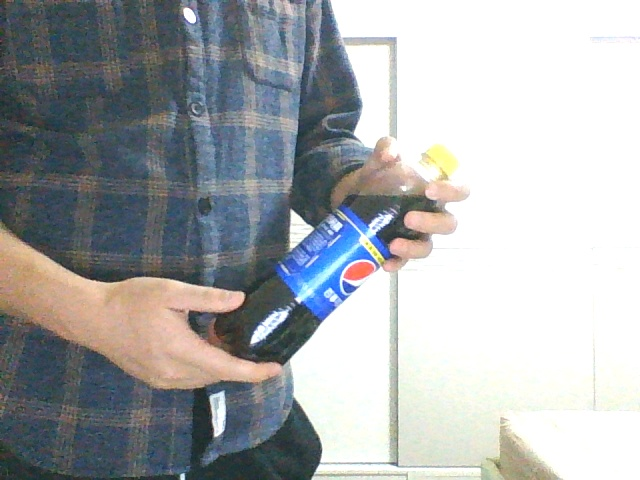Cola: (218, 141, 459, 366)
